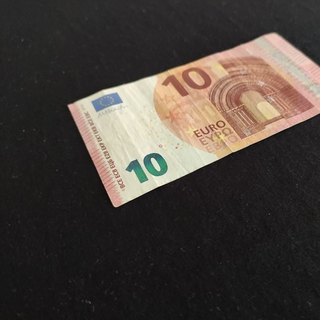10EUROFront: (66, 31, 320, 208)
